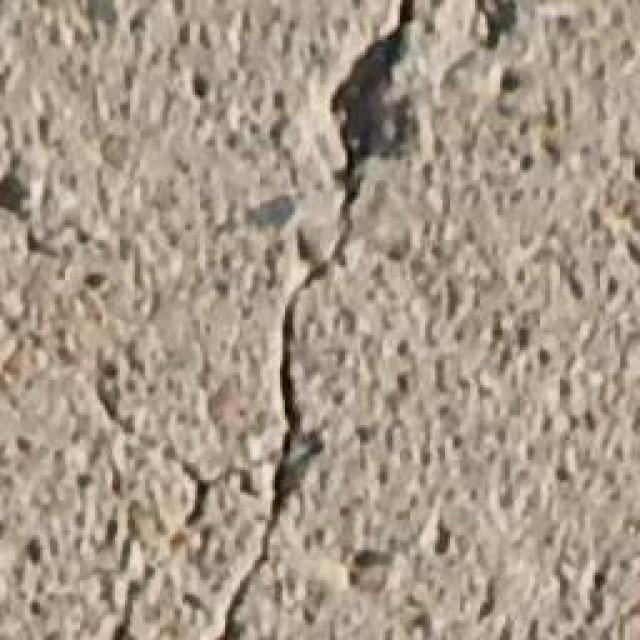concrete-crack: (195, 0, 452, 640)
